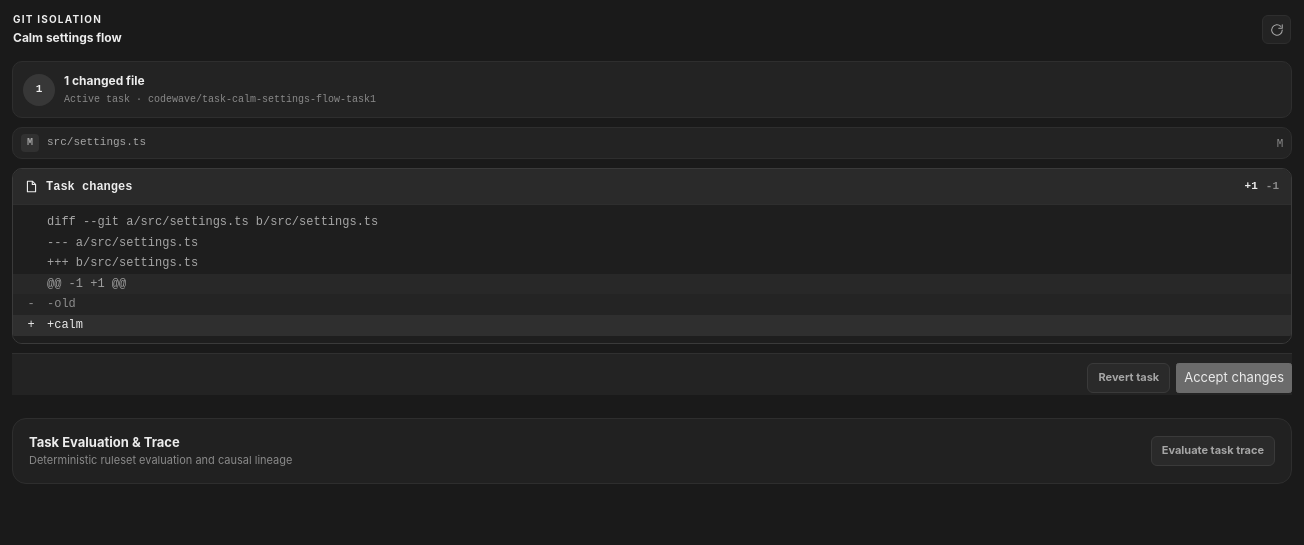
Test: ProjectChangesPanel task trace evaluation › surfaces trace evaluation failures without breaking the review panel
This screenshot has width=1304, height=545.
expect the text "1 changed file" is shown: met, box [64,73,145,88]
Click the button "Evaluate task trace".
click(1213, 451)  # box [1151,436,1275,466]
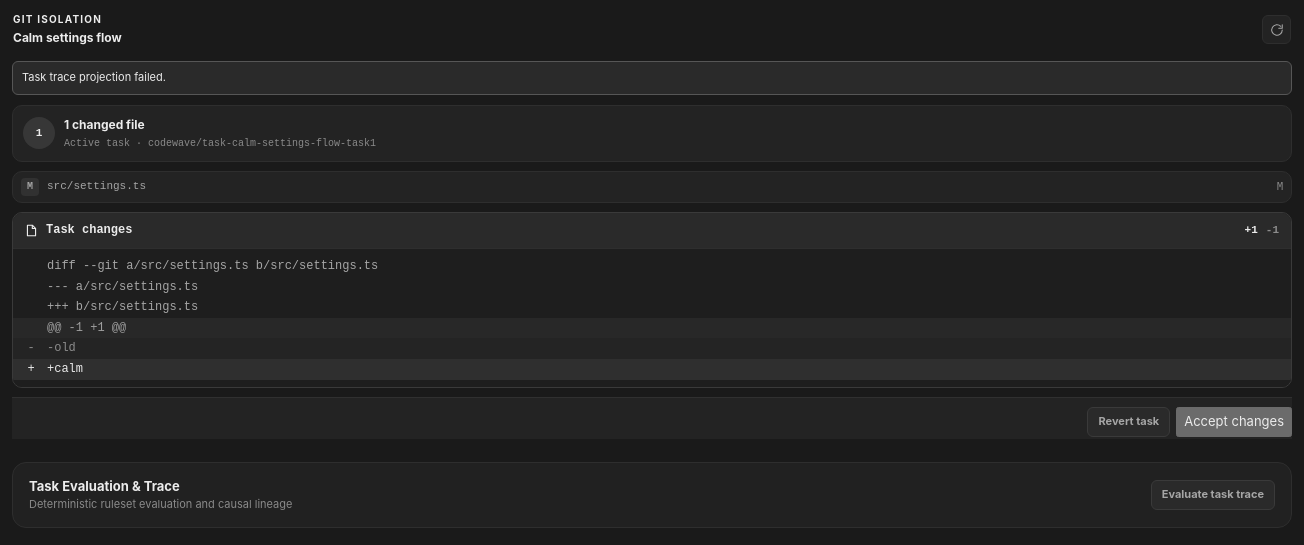
expect the button "Evaluate task trace" is shown: met, box [1151,480,1275,510]
expect the text "Task trace projection failed." is shown: met, box [12,61,1292,95]
